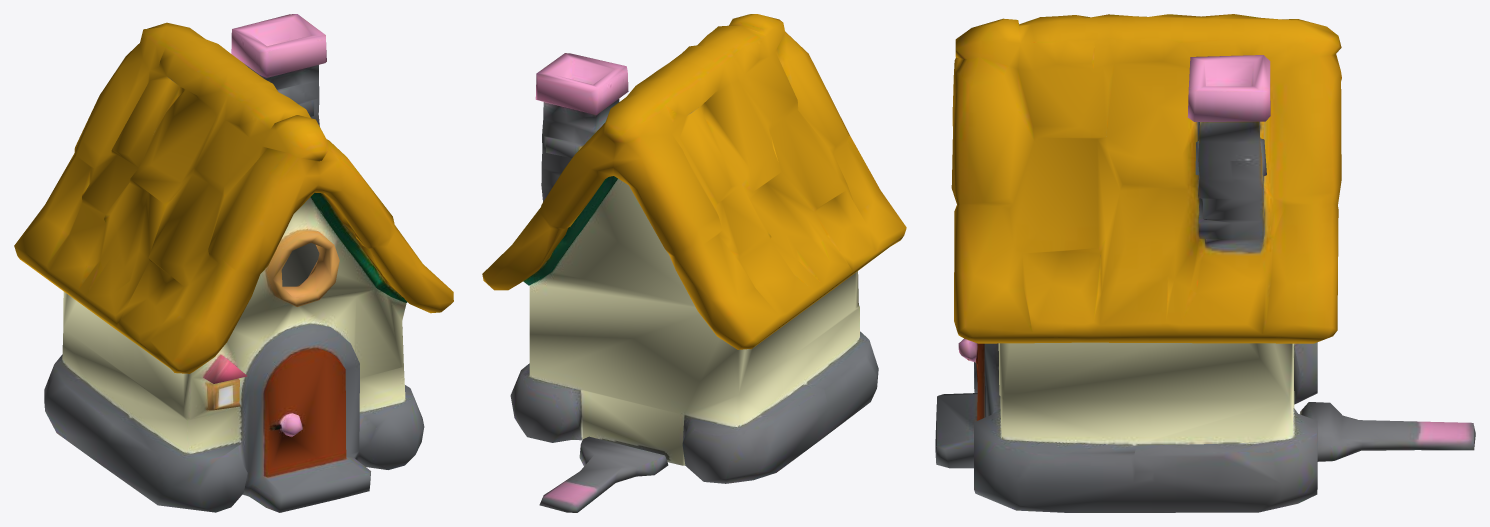
Rendered from hut_2.glb.
The picture shows the model from 3 angles, left to right: view 1: azimuth 30°, elevation 25°; view 2: azimuth 150°, elevation 25°; view 3: azimuth 270°, elevation 25°; orthographic projection. The views are drawn at different scales.
Visible parts, largest first — view 1: ЦІЛЬ; view 2: ЦІЛЬ; view 3: ЦІЛЬ.
Boxes of the visible parts, <box> form: ЦІЛЬ: <box>14,14,453,512</box>; ЦІЛЬ: <box>482,14,906,512</box>; ЦІЛЬ: <box>935,14,1475,512</box>.
Bounding box in the file's own units: 1.16 × 1.42 × 1.65.
Materials: 1 (1 with a texture image).
